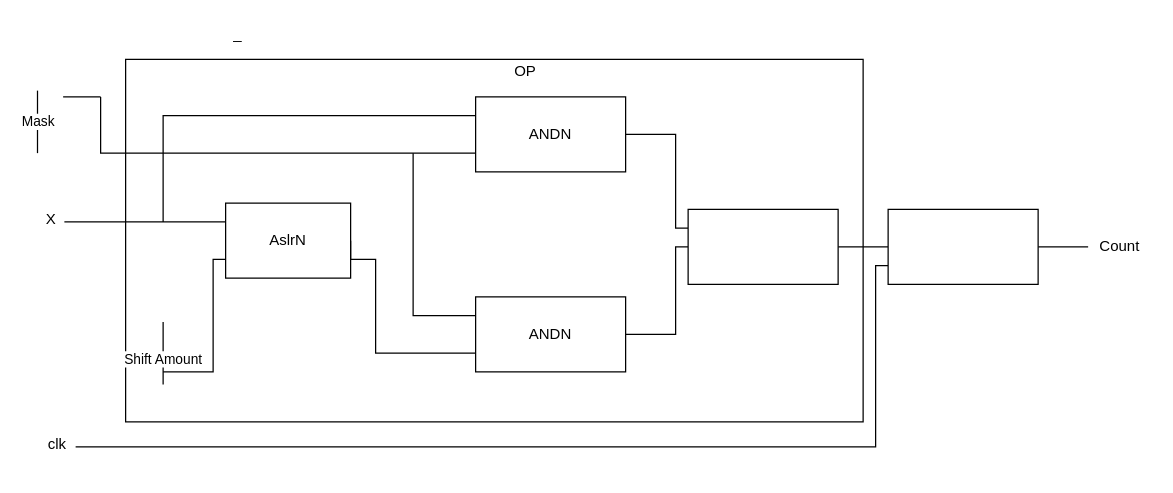
Some shapes in this 1173 by 493 pixel diagram are drawn without their labels. The centre of each missing label's shape, as x and y in pixels:
"Register" belongs at [962,246].
"RippleCarryFA" belongs at [762,246].
